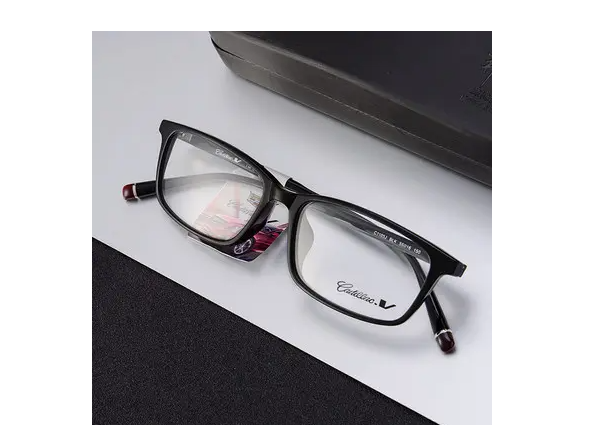glass: (116, 112, 470, 363)
